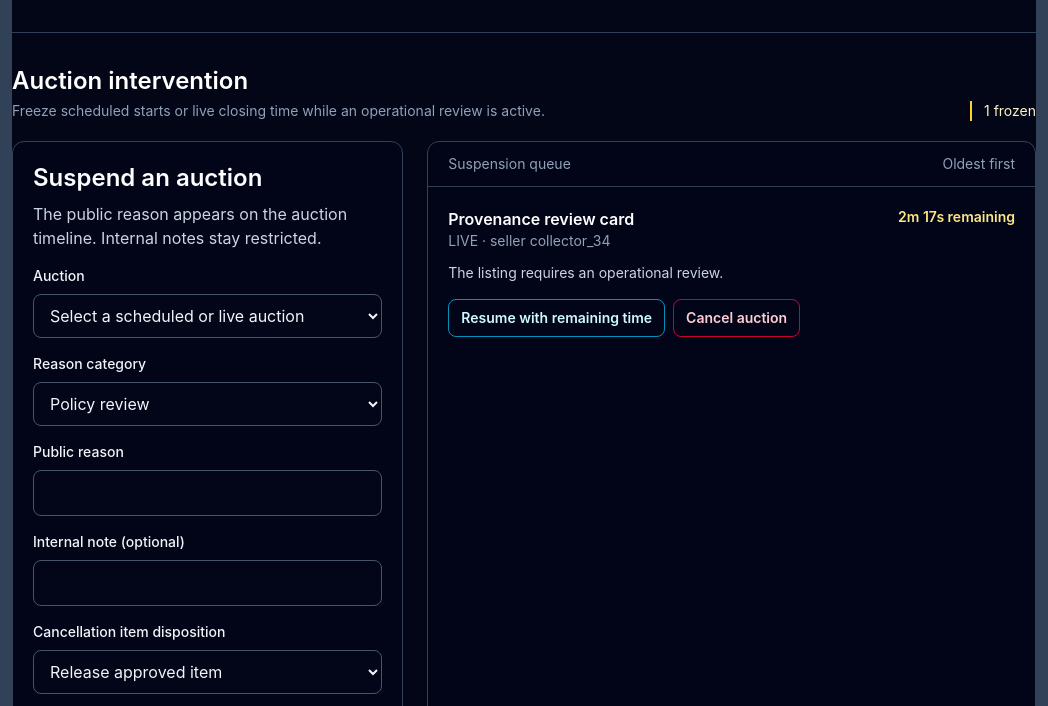
AuctionOperationsWorkspace › shows an authorization failure returned while resolving a suspension
expect the heading "Provenance review card" is shown: met, box [448,207,634,231]
Click the button "Resume with remaining time": (557, 318) [448,299,665,337]
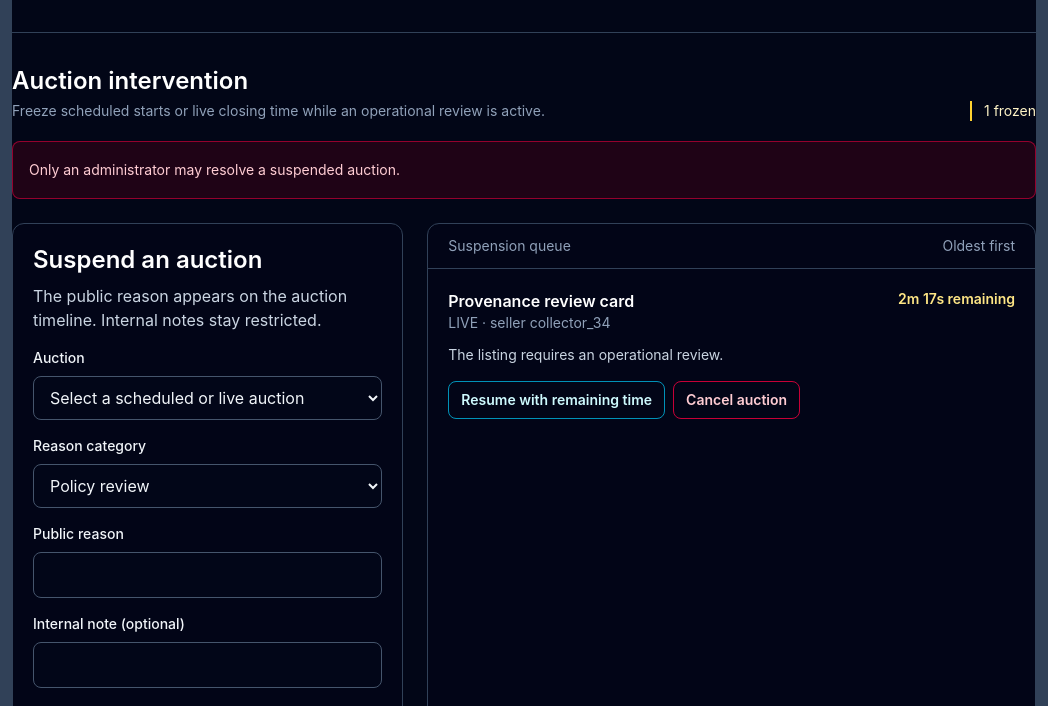
expect the text "Only an administrator may resolve a suspended auction." is shown: met, box [12,141,1036,199]
